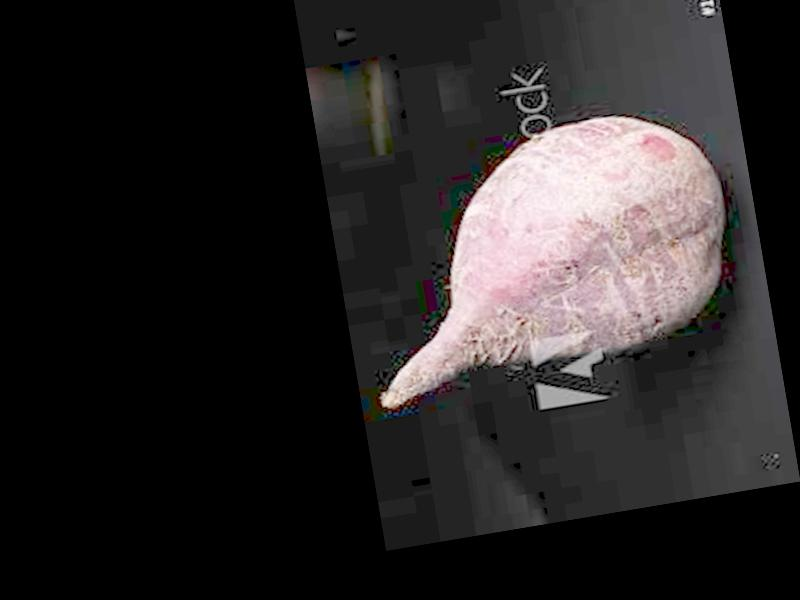Beet: (341, 99, 743, 406)
